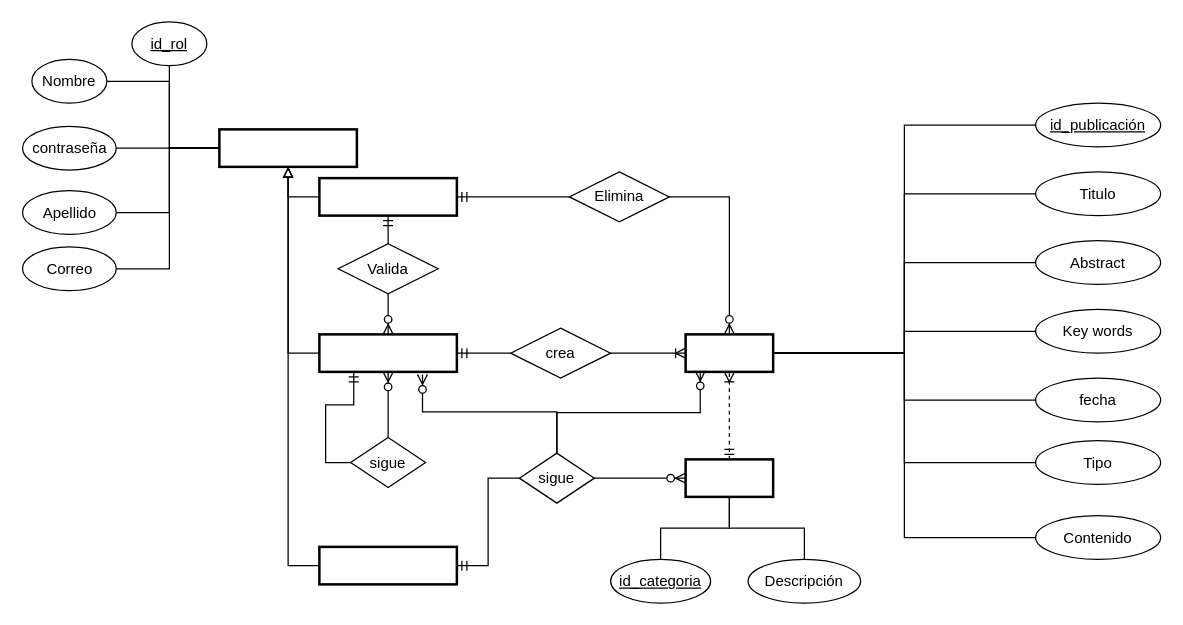
Image size: 1183x625. Some labels were removed from this diagram. Each missing label, with the centre of its shape:
Administrador: [388,196]
Autor: [388,352]
Categoria: [729,478]
Publicación: [729,352]
Rol: [288,148]
Usuario: [388,565]
